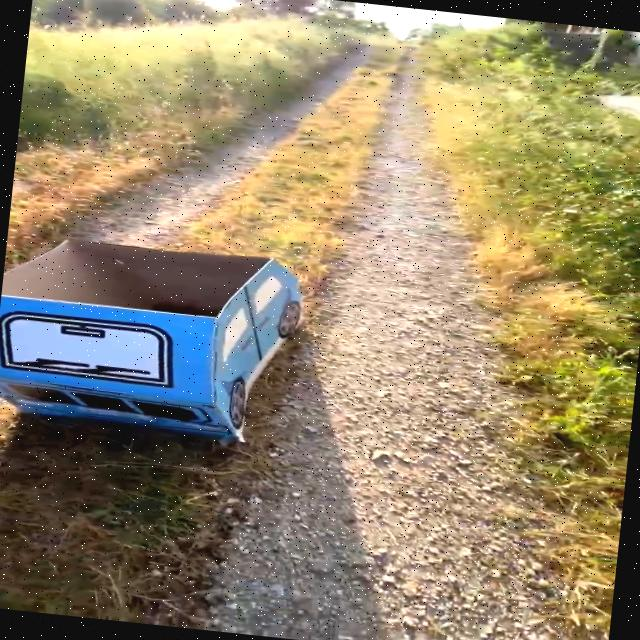blue_car: (0, 208, 363, 482)
